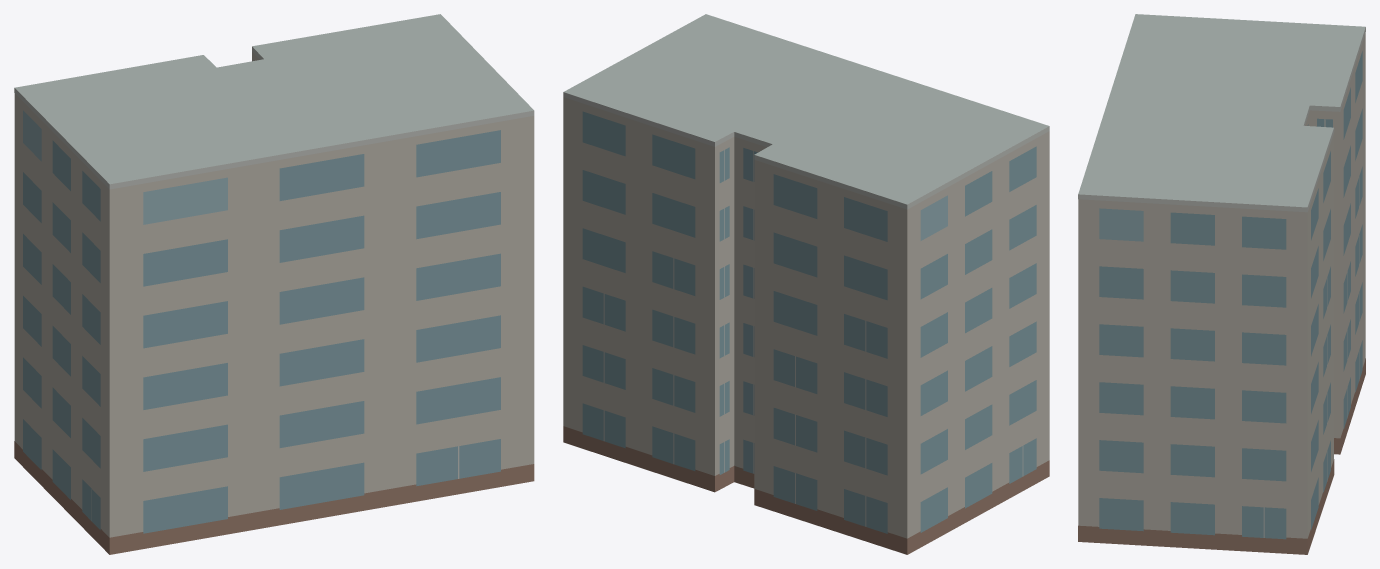
File: survey-upis-32997971.glb
The picture shows the model from 3 angles, left to right: view 1: azimuth 30°, elevation 25°; view 2: azimuth 150°, elevation 25°; view 3: azimuth 270°, elevation 25°; orthographic projection. The views are drawn at different scales.
Parts seen in each view (by area): view 1: survey-upis-32997971.tmp; view 2: survey-upis-32997971.tmp; view 3: survey-upis-32997971.tmp.
Part boxes in pixels (x1=…): survey-upis-32997971.tmp: x1=14, y1=14, x2=534, y2=554; survey-upis-32997971.tmp: x1=563, y1=14, x2=1049, y2=554; survey-upis-32997971.tmp: x1=1078, y1=14, x2=1365, y2=554.
Size of the model in its own units: 20.91 by 17.5 by 13.14.
